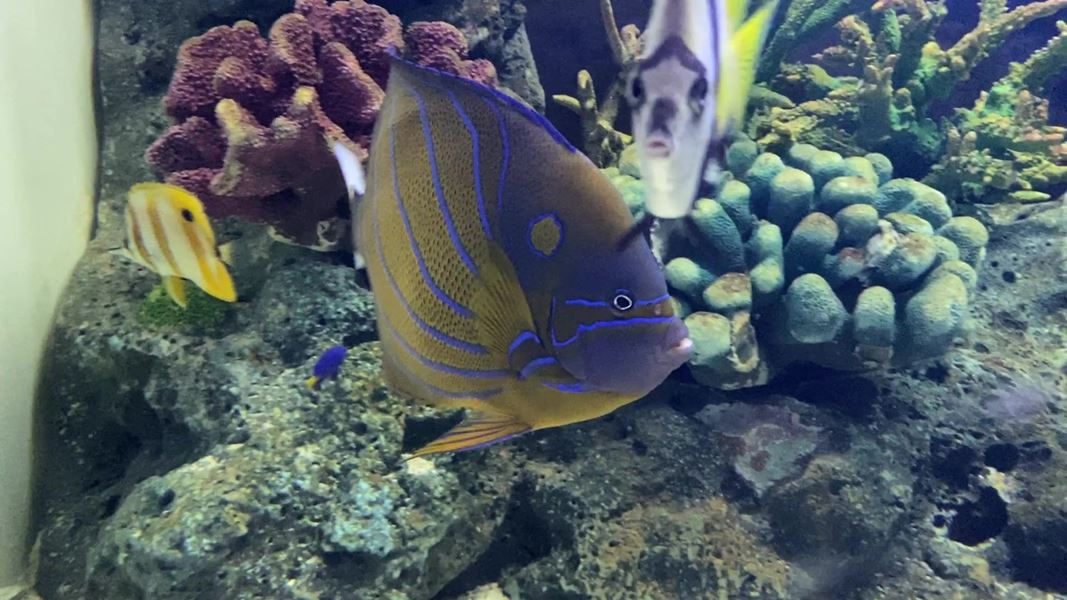Blue ring angelfish: (295, 44, 708, 486)
